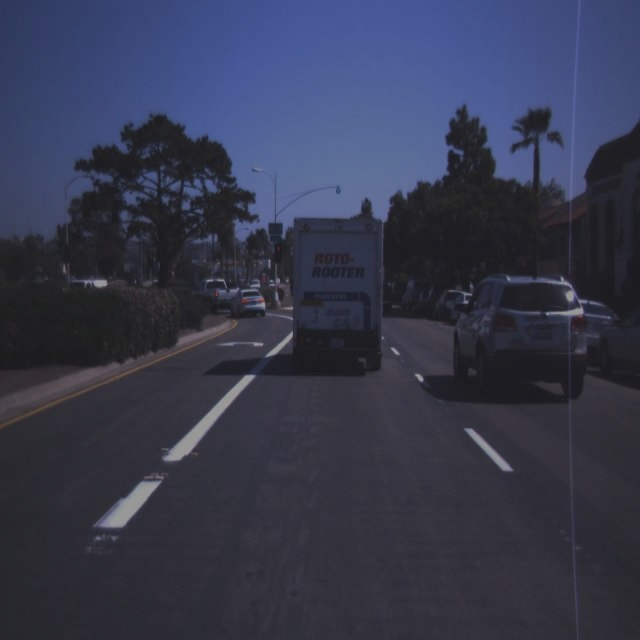go forward: (333, 166, 343, 196)
go forward traffic light: (333, 166, 343, 196)
stop left: (275, 243, 285, 263)
stop left traffic light: (275, 243, 285, 263)
